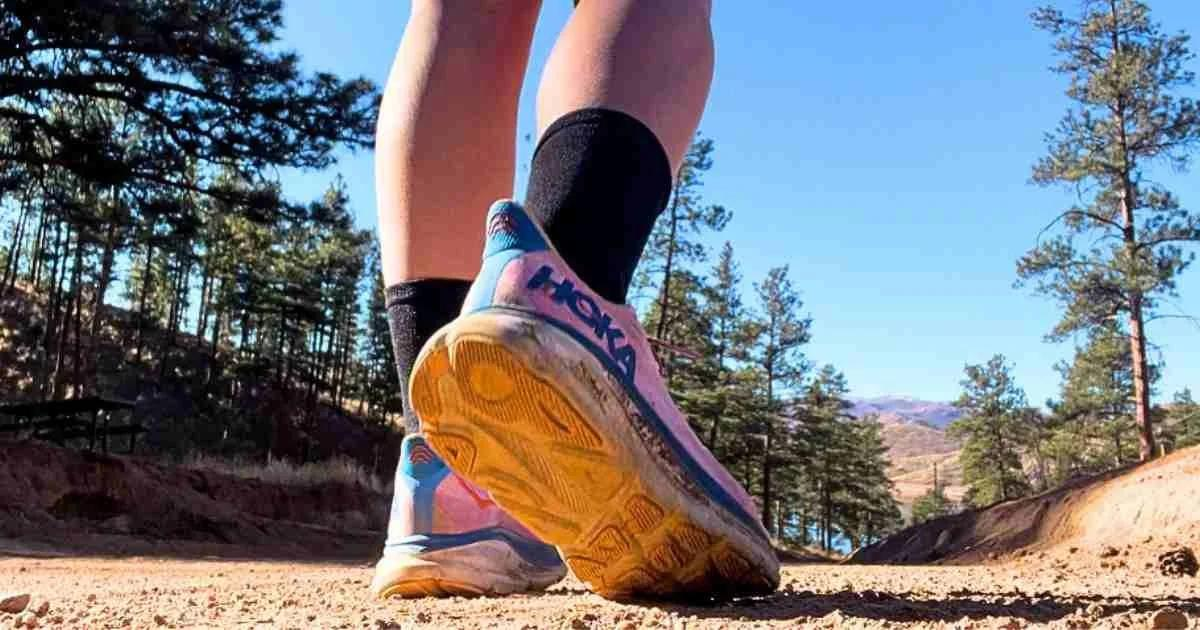hoka logo: (502, 253, 666, 415)
